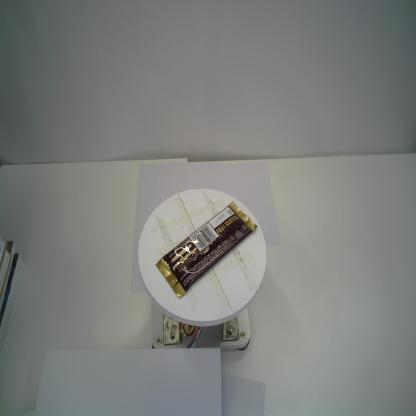Chocolate: (154, 199, 260, 300)
